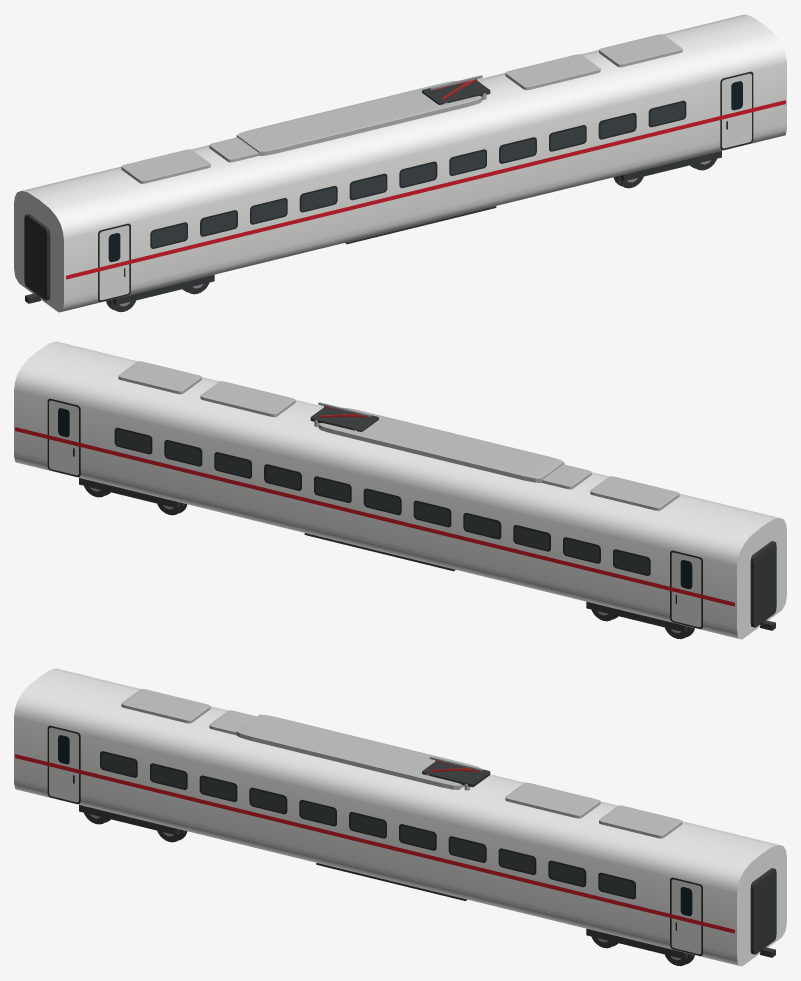
Rendered from ice3-br403-v2-second-transformer-403-6.glb.
The picture shows the model from 3 angles, top to bottom: view 1: azimuth 30°, elevation 25°; view 2: azimuth 150°, elevation 25°; view 3: azimuth 330°, elevation 25°; orthographic projection.
Visible parts, largest first — view 1: ice3_v2_second_transformer_403_6_matching_shell, ice3_v2_second_transformer_403_6_transformer_roof_cabinet, ice3_v2_second_transformer_403_6_continuous_red_stripe_-1, ice3_v2_second_transformer_403_6_double_bellows_-1, ice3_v2_second_transformer_403_6_roof_fairing_3, ice3_v2_second_transformer_403_6_roof_fairing_0, ice3_v2_second_transformer_403_6_door_leaf_0_-1, ice3_v2_second_transformer_403_6_door_leaf_1_-1, ice3_v2_second_transformer_403_6_roof_fairing_4, ice3_v2_second_transformer_403_6_pantograph_base, ice3_v2_second_transformer_403_6_roof_fairing_1, ice3_v2_second_transformer_403_6_bogie_0_sideframe_-1 (+12 smaller); view 2: ice3_v2_second_transformer_403_6_matching_shell, ice3_v2_second_transformer_403_6_transformer_roof_cabinet, ice3_v2_second_transformer_403_6_continuous_red_stripe_1, ice3_v2_second_transformer_403_6_double_bellows_-1, ice3_v2_second_transformer_403_6_roof_fairing_3, ice3_v2_second_transformer_403_6_roof_fairing_0, ice3_v2_second_transformer_403_6_door_leaf_0_1, ice3_v2_second_transformer_403_6_door_leaf_1_1, ice3_v2_second_transformer_403_6_roof_fairing_4, ice3_v2_second_transformer_403_6_bogie_0, ice3_v2_second_transformer_403_6_bogie_1, ice3_v2_second_transformer_403_6_pantograph_base (+12 smaller); view 3: ice3_v2_second_transformer_403_6_matching_shell, ice3_v2_second_transformer_403_6_transformer_roof_cabinet, ice3_v2_second_transformer_403_6_continuous_red_stripe_-1, ice3_v2_second_transformer_403_6_double_bellows_1, ice3_v2_second_transformer_403_6_roof_fairing_3, ice3_v2_second_transformer_403_6_roof_fairing_0, ice3_v2_second_transformer_403_6_door_leaf_1_-1, ice3_v2_second_transformer_403_6_door_leaf_0_-1, ice3_v2_second_transformer_403_6_roof_fairing_4, ice3_v2_second_transformer_403_6_pantograph_base, ice3_v2_second_transformer_403_6_bogie_1_sideframe_-1, ice3_v2_second_transformer_403_6_bogie_0_sideframe_-1 (+12 smaller).
Part boxes in pixels (<box>): ice3_v2_second_transformer_403_6_matching_shell: <box>14,14,786,312</box>; ice3_v2_second_transformer_403_6_transformer_roof_cabinet: <box>236,80,482,155</box>; ice3_v2_second_transformer_403_6_continuous_red_stripe_-1: <box>66,100,785,279</box>; ice3_v2_second_transformer_403_6_double_bellows_-1: <box>24,214,50,300</box>; ice3_v2_second_transformer_403_6_roof_fairing_3: <box>505,54,600,90</box>; ice3_v2_second_transformer_403_6_roof_fairing_0: <box>121,149,210,183</box>; ice3_v2_second_transformer_403_6_door_leaf_0_-1: <box>99,225,129,300</box>; ice3_v2_second_transformer_403_6_door_leaf_1_-1: <box>722,73,751,148</box>; ice3_v2_second_transformer_403_6_roof_fairing_4: <box>599,34,682,67</box>; ice3_v2_second_transformer_403_6_pantograph_base: <box>422,80,490,104</box>; ice3_v2_second_transformer_403_6_roof_fairing_1: <box>209,137,258,162</box>; ice3_v2_second_transformer_403_6_bogie_0_sideframe_-1: <box>113,274,214,305</box>; ice3_v2_second_transformer_403_6_matching_shell: <box>14,341,786,639</box>; ice3_v2_second_transformer_403_6_transformer_roof_cabinet: <box>318,407,564,482</box>; ice3_v2_second_transformer_403_6_continuous_red_stripe_1: <box>15,427,734,606</box>; ice3_v2_second_transformer_403_6_double_bellows_-1: <box>750,541,776,627</box>; ice3_v2_second_transformer_403_6_roof_fairing_3: <box>200,381,295,417</box>; ice3_v2_second_transformer_403_6_roof_fairing_0: <box>590,476,679,510</box>; ice3_v2_second_transformer_403_6_door_leaf_0_1: <box>671,552,701,627</box>; ice3_v2_second_transformer_403_6_door_leaf_1_1: <box>49,400,78,475</box>; ice3_v2_second_transformer_403_6_roof_fairing_4: <box>118,361,201,394</box>; ice3_v2_second_transformer_403_6_bogie_0: <box>586,601,694,639</box>; ice3_v2_second_transformer_403_6_bogie_1: <box>79,478,187,515</box>; ice3_v2_second_transformer_403_6_pantograph_base: <box>310,407,378,431</box>; ice3_v2_second_transformer_403_6_matching_shell: <box>14,668,786,966</box>; ice3_v2_second_transformer_403_6_transformer_roof_cabinet: <box>236,714,480,789</box>; ice3_v2_second_transformer_403_6_continuous_red_stripe_-1: <box>15,754,734,933</box>; ice3_v2_second_transformer_403_6_double_bellows_1: <box>750,868,776,954</box>; ice3_v2_second_transformer_403_6_roof_fairing_3: <box>505,782,600,818</box>; ice3_v2_second_transformer_403_6_roof_fairing_0: <box>121,689,210,723</box>; ice3_v2_second_transformer_403_6_door_leaf_1_-1: <box>671,879,701,954</box>; ice3_v2_second_transformer_403_6_door_leaf_0_-1: <box>49,727,78,802</box>; ice3_v2_second_transformer_403_6_roof_fairing_4: <box>599,805,682,838</box>; ice3_v2_second_transformer_403_6_pantograph_base: <box>422,761,490,787</box>; ice3_v2_second_transformer_403_6_bogie_1_sideframe_-1: <box>586,928,687,959</box>; ice3_v2_second_transformer_403_6_bogie_0_sideframe_-1: <box>79,805,180,835</box>.
Bounding box in the file's own units: 25.5 × 4.44 × 3.01.
